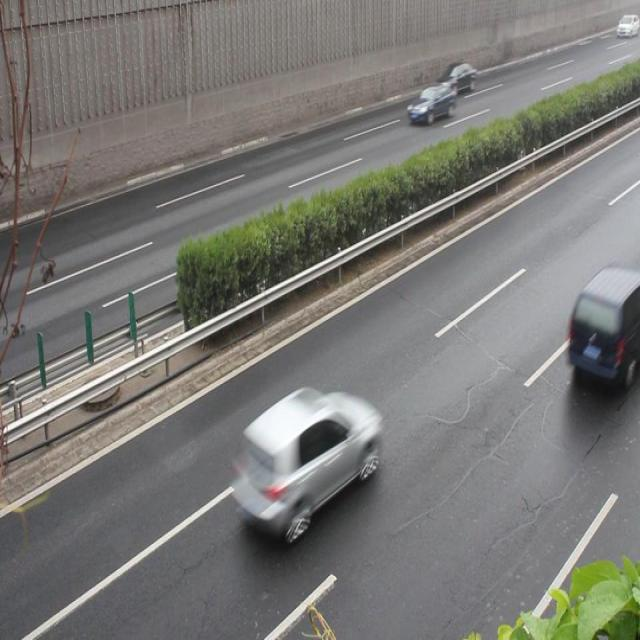car: (229, 386, 378, 540), (406, 85, 453, 125), (436, 61, 474, 97)
truck: (567, 262, 640, 379)
